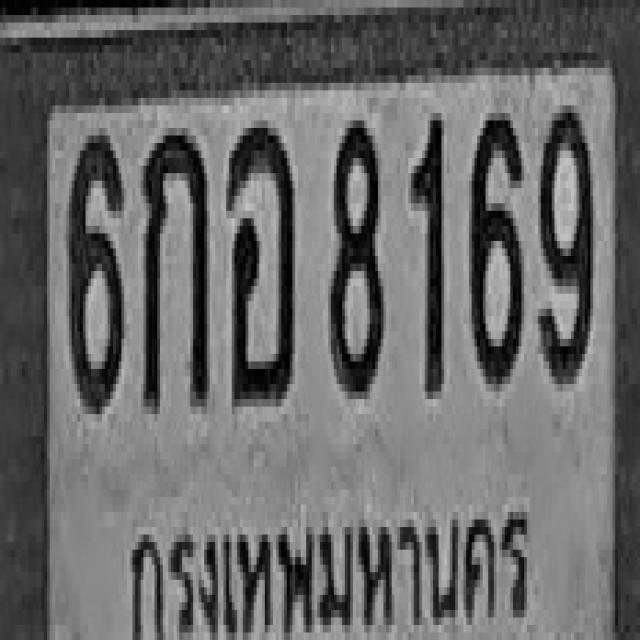1: (410, 113, 442, 391)
10GorGai: (142, 128, 208, 408)
52OrAng: (225, 120, 297, 404)
6: (68, 128, 122, 407), (469, 105, 521, 384)
8: (330, 113, 382, 391)
9: (539, 102, 592, 380)
Bangkok: (119, 490, 546, 640)
